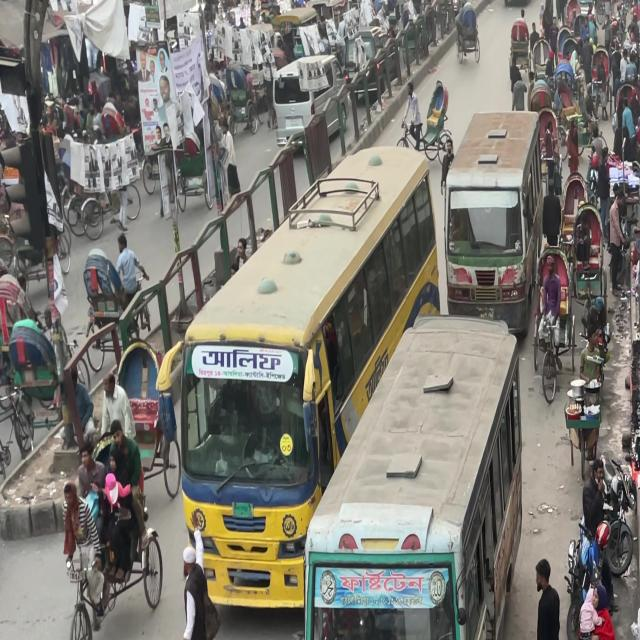bus: (166, 145, 448, 610), (303, 317, 523, 640), (445, 109, 564, 315)
